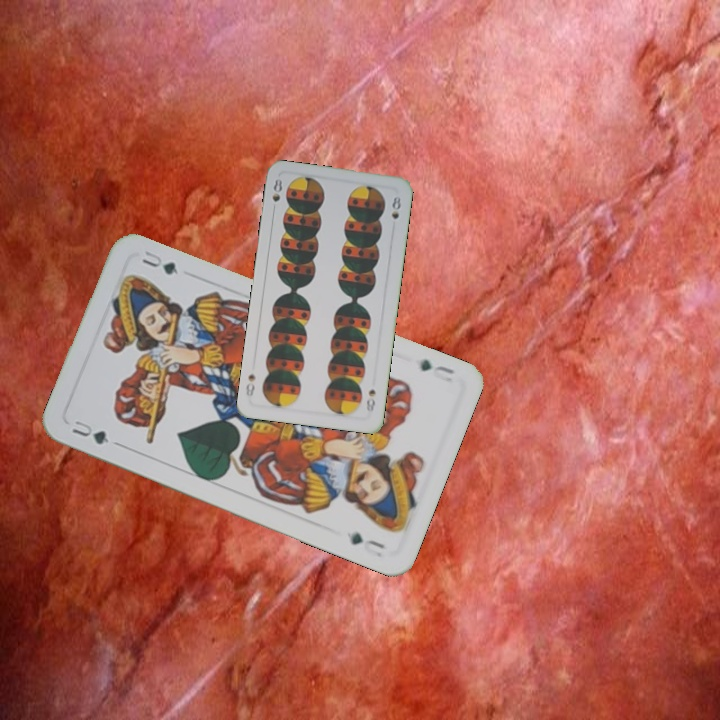GU: (68, 416, 112, 447), (416, 355, 457, 385)
S8: (268, 175, 285, 204), (362, 385, 378, 415)
